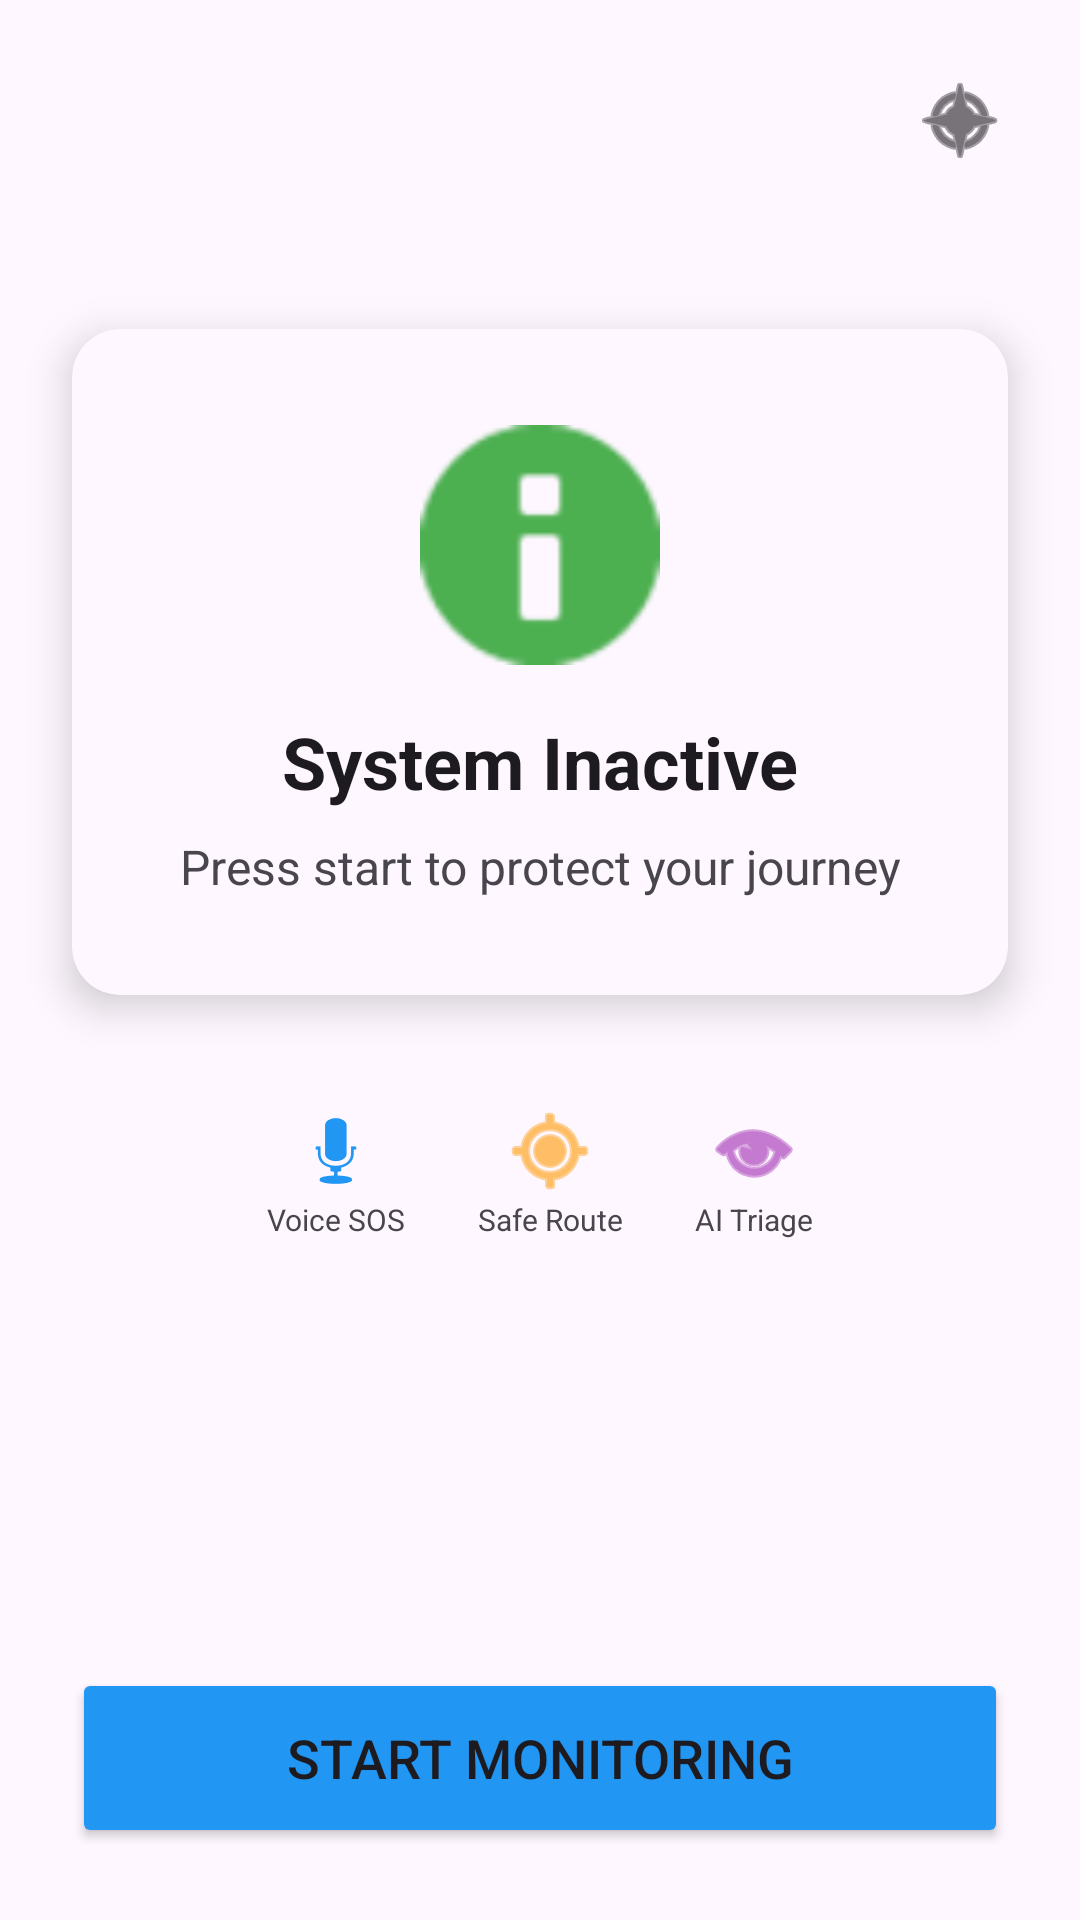

Named icons in this screenshot (1080px x 1920px) and their bounding boxes, {"left": x1, "top": y1, "right": x2, "bottom": y2}:
compass: {"left": 922, "top": 83, "right": 998, "bottom": 158}
info: {"left": 420, "top": 425, "right": 660, "bottom": 665}
mylocation: {"left": 512, "top": 1113, "right": 588, "bottom": 1189}
speak now: {"left": 315, "top": 1118, "right": 357, "bottom": 1184}
view: {"left": 715, "top": 1129, "right": 793, "bottom": 1178}
